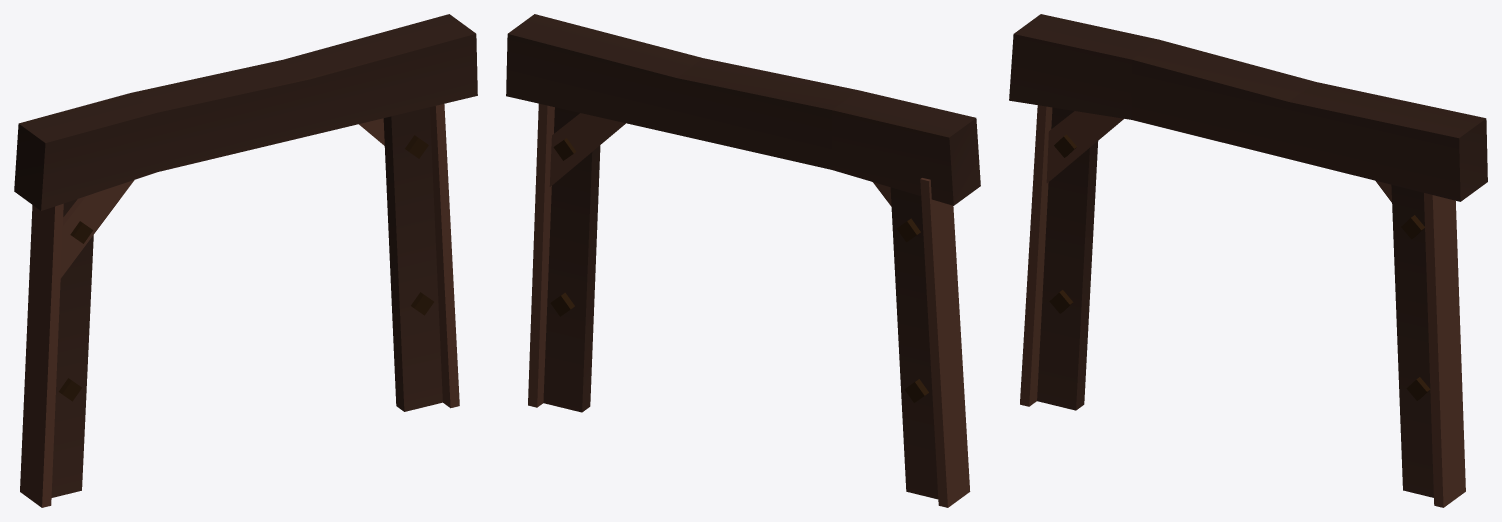
The model's file is Beam Interior 3.glb.
3 views of the same model, side by side, from view 1: azimuth 30°, elevation 25°; view 2: azimuth 150°, elevation 25°; view 3: azimuth 330°, elevation 25° (orthographic).
Parts seen in each view (by area): view 1: Beam Interior 3; view 2: Beam Interior 3; view 3: Beam Interior 3.
Part boxes in pixels (box(x1,y1,x2,y2)): Beam Interior 3: box(14, 14, 477, 507); Beam Interior 3: box(506, 14, 980, 507); Beam Interior 3: box(1009, 14, 1487, 507).
Size of what is drawn, in the model's own units: 4.04 by 3.23 by 0.4944.
Materials: 1 (1 with a texture image).
